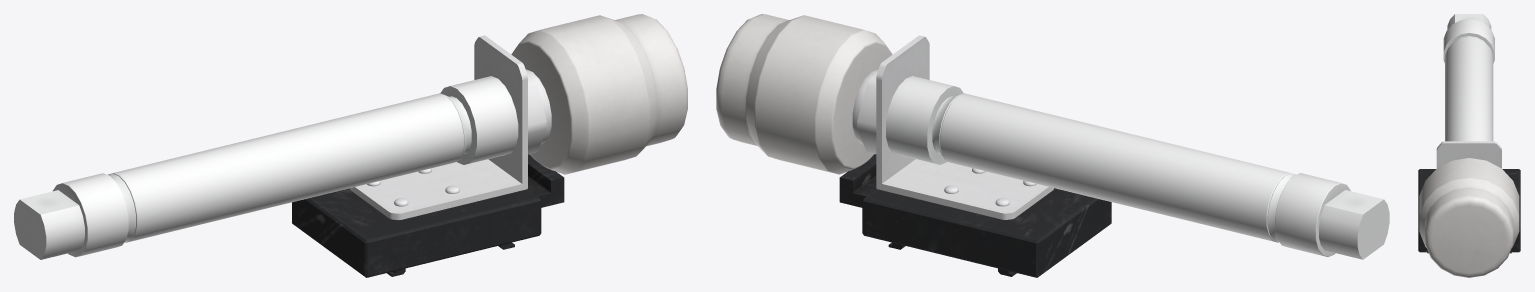
File: 双作用单杆气缸 1.fbx
3 renders of one model, left to right at view 1: azimuth 30°, elevation 25°; view 2: azimuth 150°, elevation 25°; view 3: azimuth 270°, elevation 25°, orthographic. The views are drawn at different scales.
Visible parts, largest first — view 1: SZYDGQG01, SZYDGQG02, SZYDGQG04; view 2: SZYDGQG01, SZYDGQG02, SZYDGQG04; view 3: SZYDGQG02, SZYDGQG01, SZYDGQG04.
Boxes of the visible parts, bbox=[...] form: SZYDGQG01: bbox=[14, 35, 551, 259]; SZYDGQG02: bbox=[511, 14, 687, 174]; SZYDGQG04: bbox=[292, 154, 564, 277]; SZYDGQG01: bbox=[852, 35, 1389, 259]; SZYDGQG02: bbox=[716, 14, 892, 174]; SZYDGQG04: bbox=[839, 154, 1111, 277]; SZYDGQG02: bbox=[1419, 158, 1519, 277]; SZYDGQG01: bbox=[1436, 14, 1501, 168]; SZYDGQG04: bbox=[1418, 169, 1520, 253].
Size of the model in its own units: 26.31 by 6.91 by 5.42.
